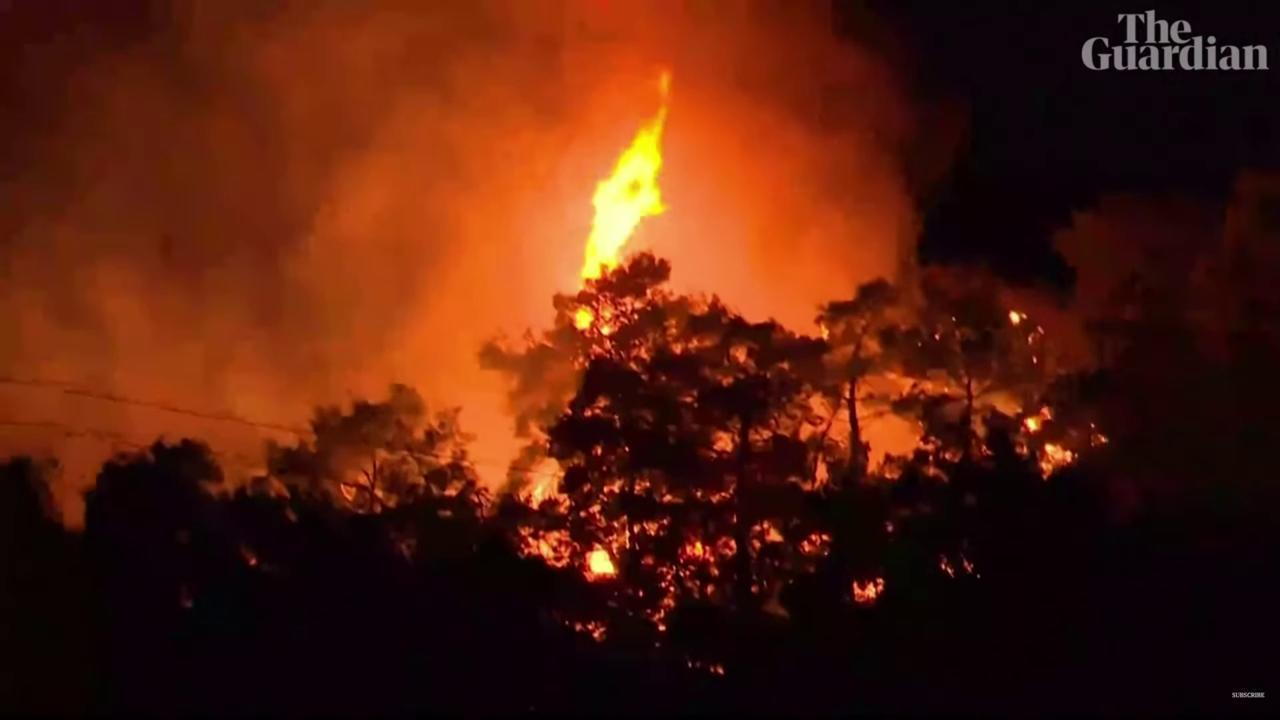fire: (572, 64, 676, 336), (1039, 442, 1079, 483), (585, 546, 617, 576), (530, 484, 544, 509), (1009, 310, 1028, 326), (539, 541, 552, 561), (691, 540, 704, 560), (1024, 416, 1039, 433)
smoke: (0, 0, 976, 592)
